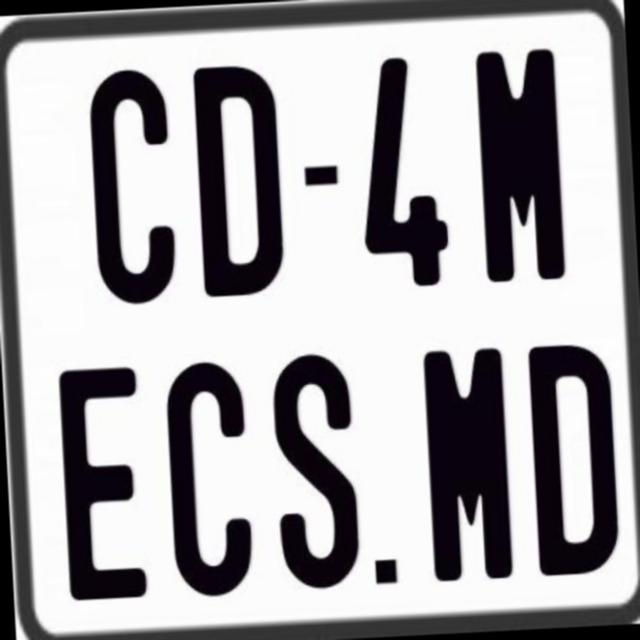4: (356, 52, 453, 294)
C: (160, 356, 259, 602), (85, 66, 182, 312)
D: (190, 59, 288, 300), (526, 340, 624, 580)
E: (58, 364, 156, 600)
M: (472, 43, 566, 280), (423, 347, 513, 588)
S: (268, 352, 360, 596)
